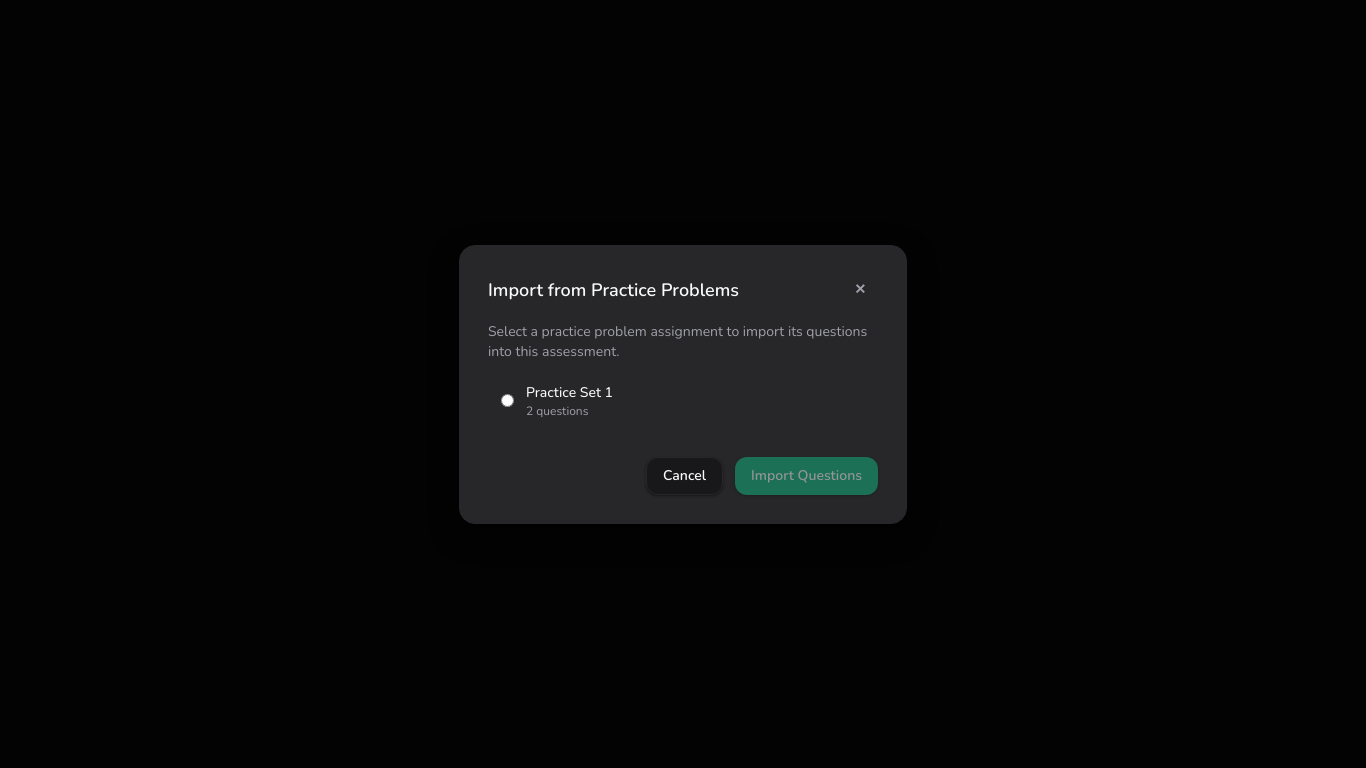
Test: ImportQuestionsModal › import action › shows error message when import fails
Click the radio button labelled "Practice Set 1 2 questions" at (508, 400), box [501,394,514,407]
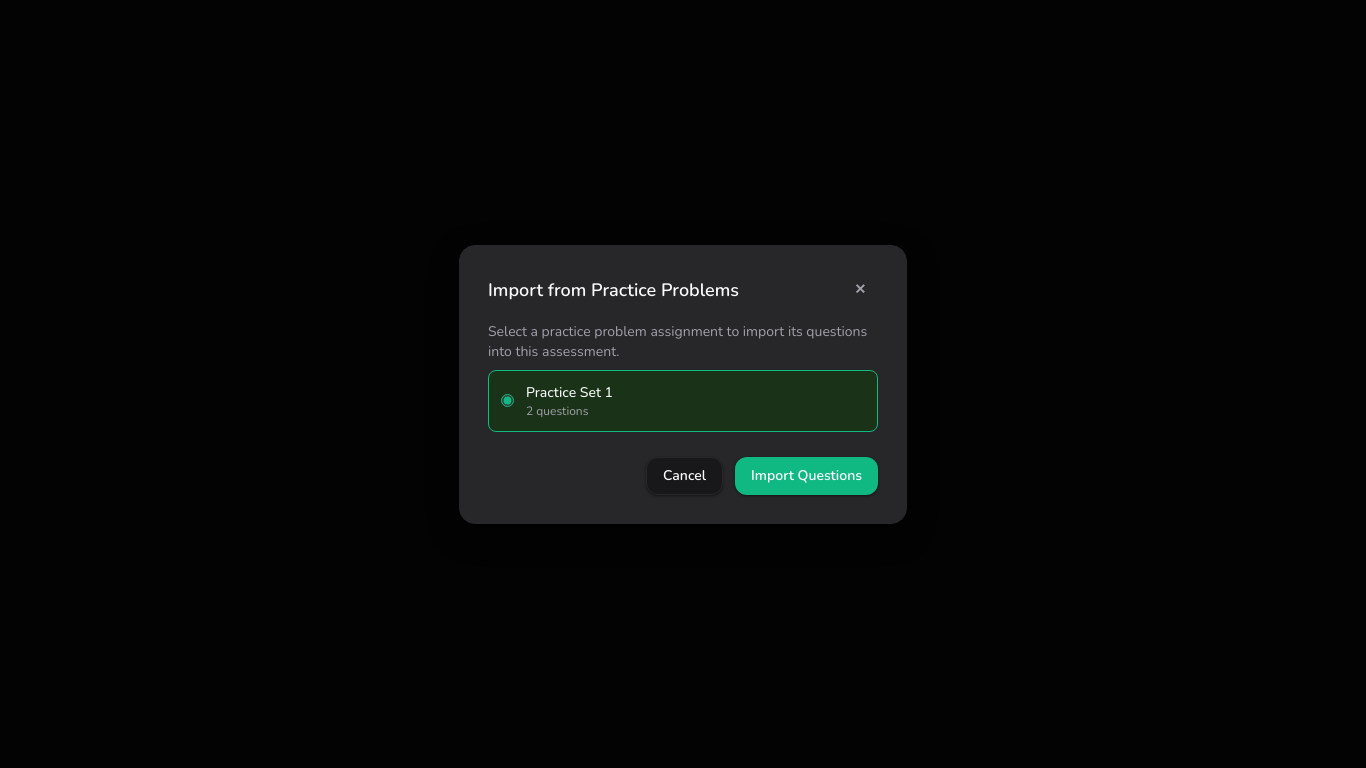
Click the button "Import Questions" at (807, 476), box [735,456,878,494]
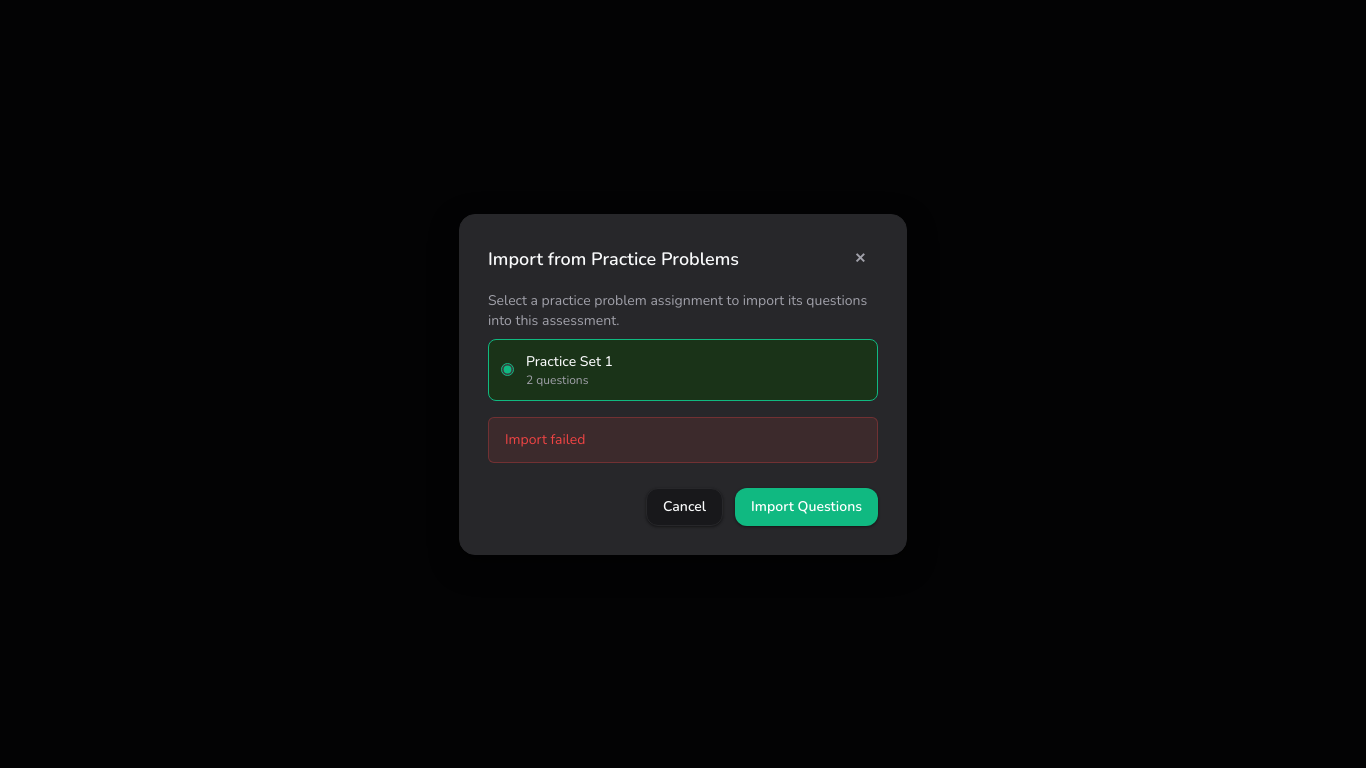
Expected: the text "Import failed" is shown, [488,416,878,462]
